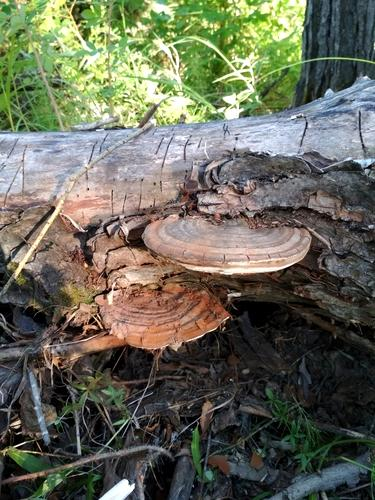Ganoderma - Fruit Body: (139, 208, 314, 276), (94, 283, 236, 347)
